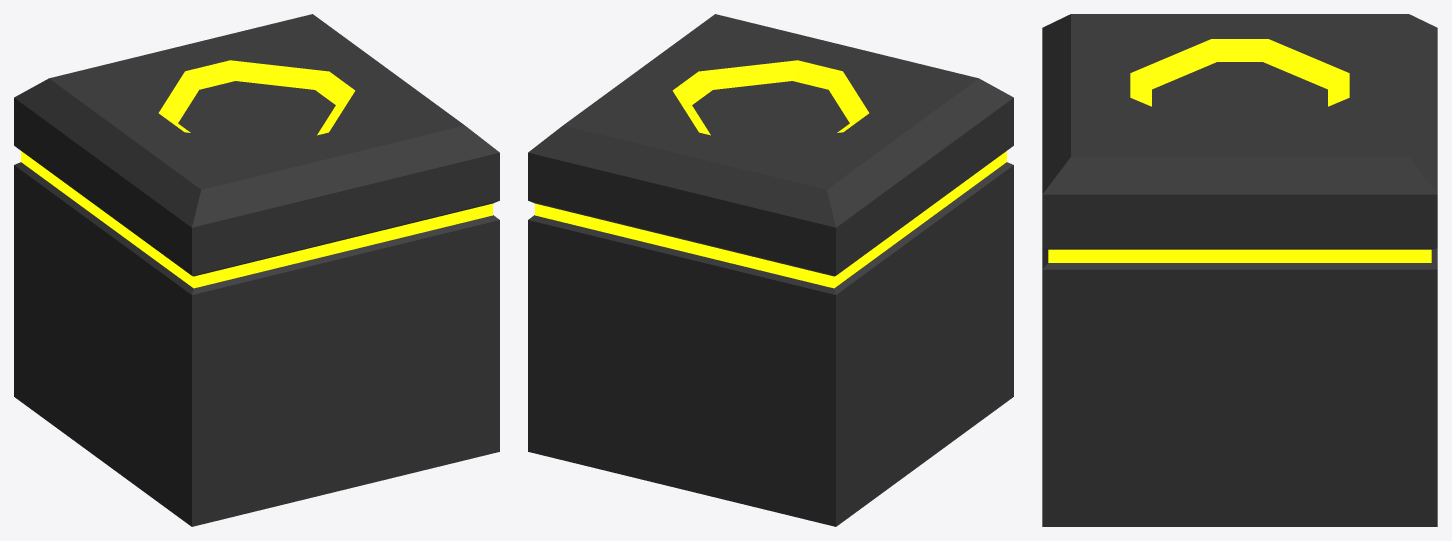
File: Wall_OuterPost.fbx
3 views of the same model, side by side, from view 1: azimuth 30°, elevation 25°; view 2: azimuth 150°, elevation 25°; view 3: azimuth 270°, elevation 25° (orthographic). The views are drawn at different scales.
Visible parts, largest first — view 1: Cube.001; view 2: Cube.001; view 3: Cube.001.
Boxes of the visible parts, bbox=[...] form: Cube.001: bbox=[14, 14, 499, 526]; Cube.001: bbox=[528, 14, 1013, 526]; Cube.001: bbox=[1042, 14, 1437, 526].
Bounding box in the file's own units: 240 × 240 × 240.
